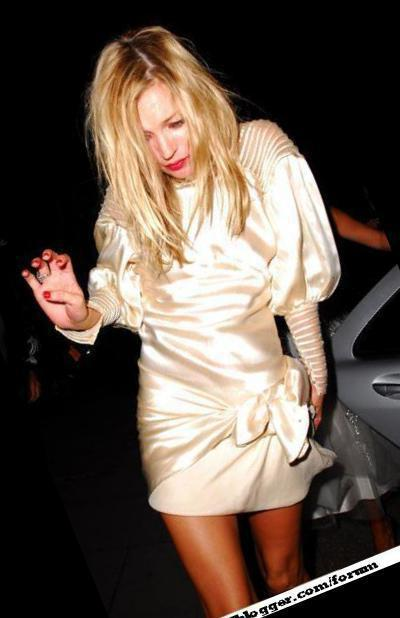Drunk: (131, 76, 202, 179)
